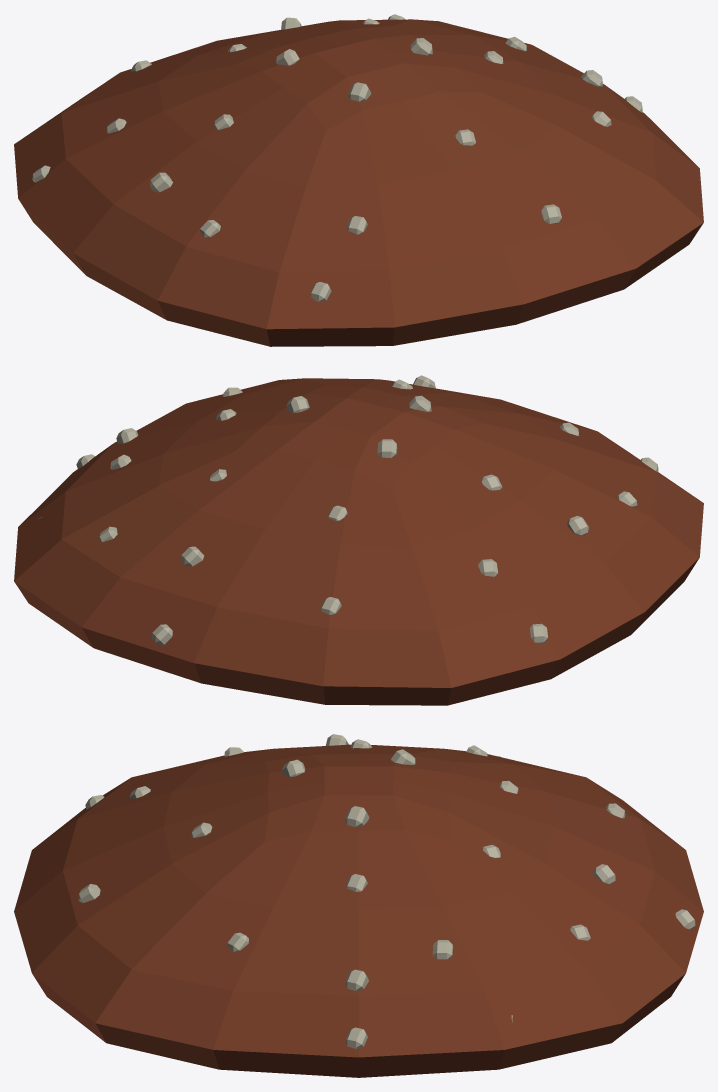
Rendered from mushroom_crop.glb.
The picture shows the model from 3 angles, top to bottom: view 1: azimuth 30°, elevation 25°; view 2: azimuth 150°, elevation 25°; view 3: azimuth 270°, elevation 25°; orthographic projection. The views are drawn at different scales.
Parts seen in each view (by area): view 1: Mushroom_Crop; view 2: Mushroom_Crop; view 3: Mushroom_Crop.
Part boxes in pixels (bbox=[...]): Mushroom_Crop: bbox=[14, 14, 703, 346]; Mushroom_Crop: bbox=[14, 375, 703, 705]; Mushroom_Crop: bbox=[14, 734, 703, 1077].
Size of the model in its own units: 0.4363 by 0.1185 by 0.4363.
